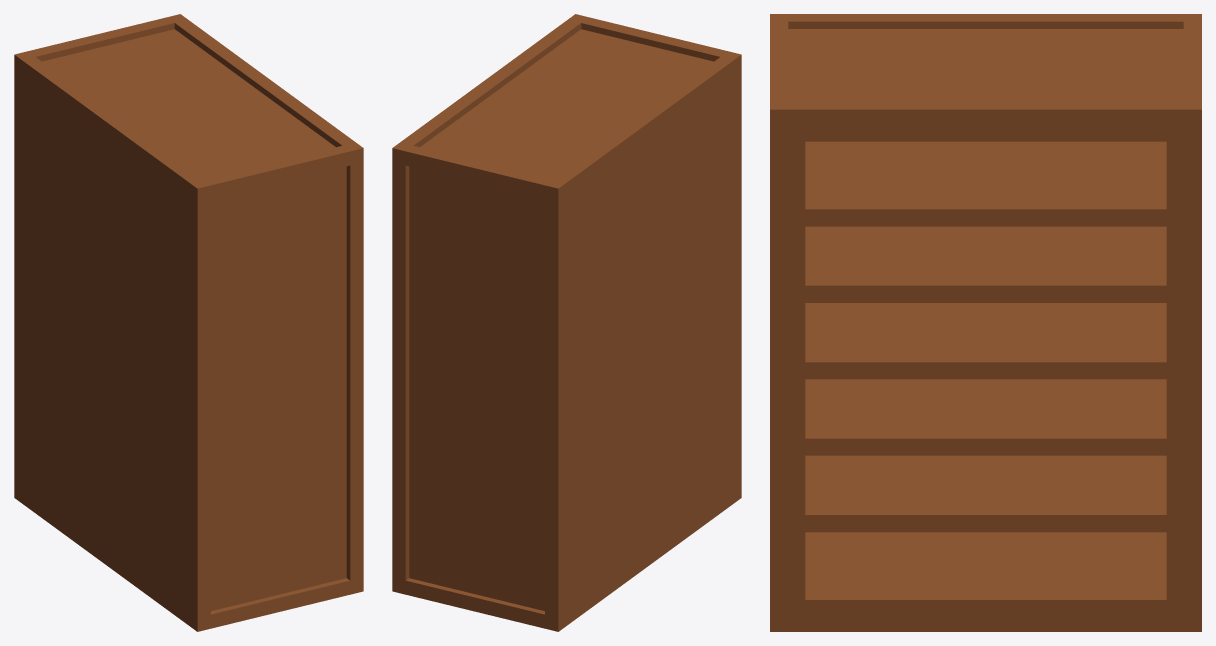
File: étagère.fbx
3 views of the same model, side by side, from view 1: azimuth 30°, elevation 25°; view 2: azimuth 150°, elevation 25°; view 3: azimuth 270°, elevation 25° (orthographic). The views are drawn at different scales.
Visible parts, largest first — view 1: Etagère; view 2: Etagère; view 3: Etagère.
Part boxes in pixels (x1,y1,x2,y2): Etagère: (14, 14, 363, 631); Etagère: (392, 14, 741, 631); Etagère: (770, 14, 1201, 631).
Bounding box in the file's own units: 43.62 × 111 × 83.29.
